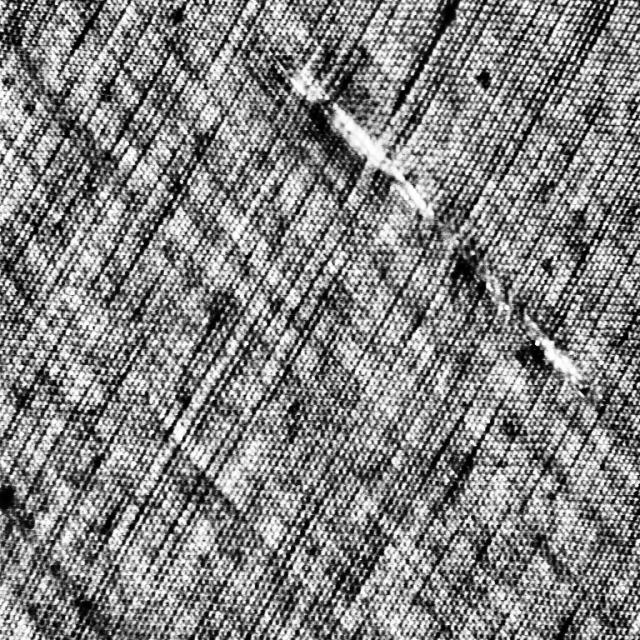Stitch: (271, 52, 582, 382)
